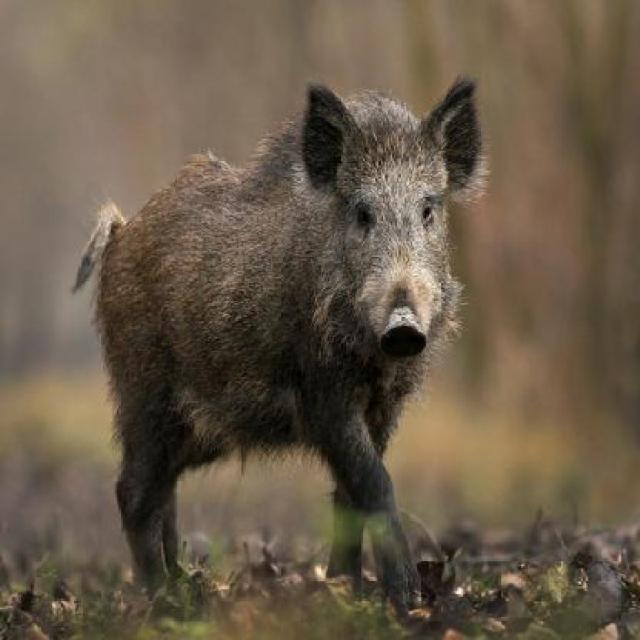wildboar: (68, 69, 492, 622)
